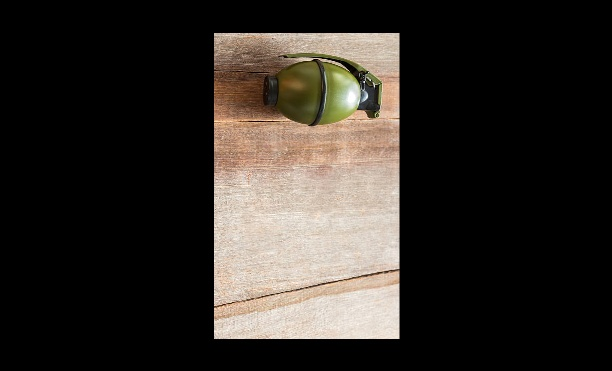e1: (266, 52, 385, 134)
